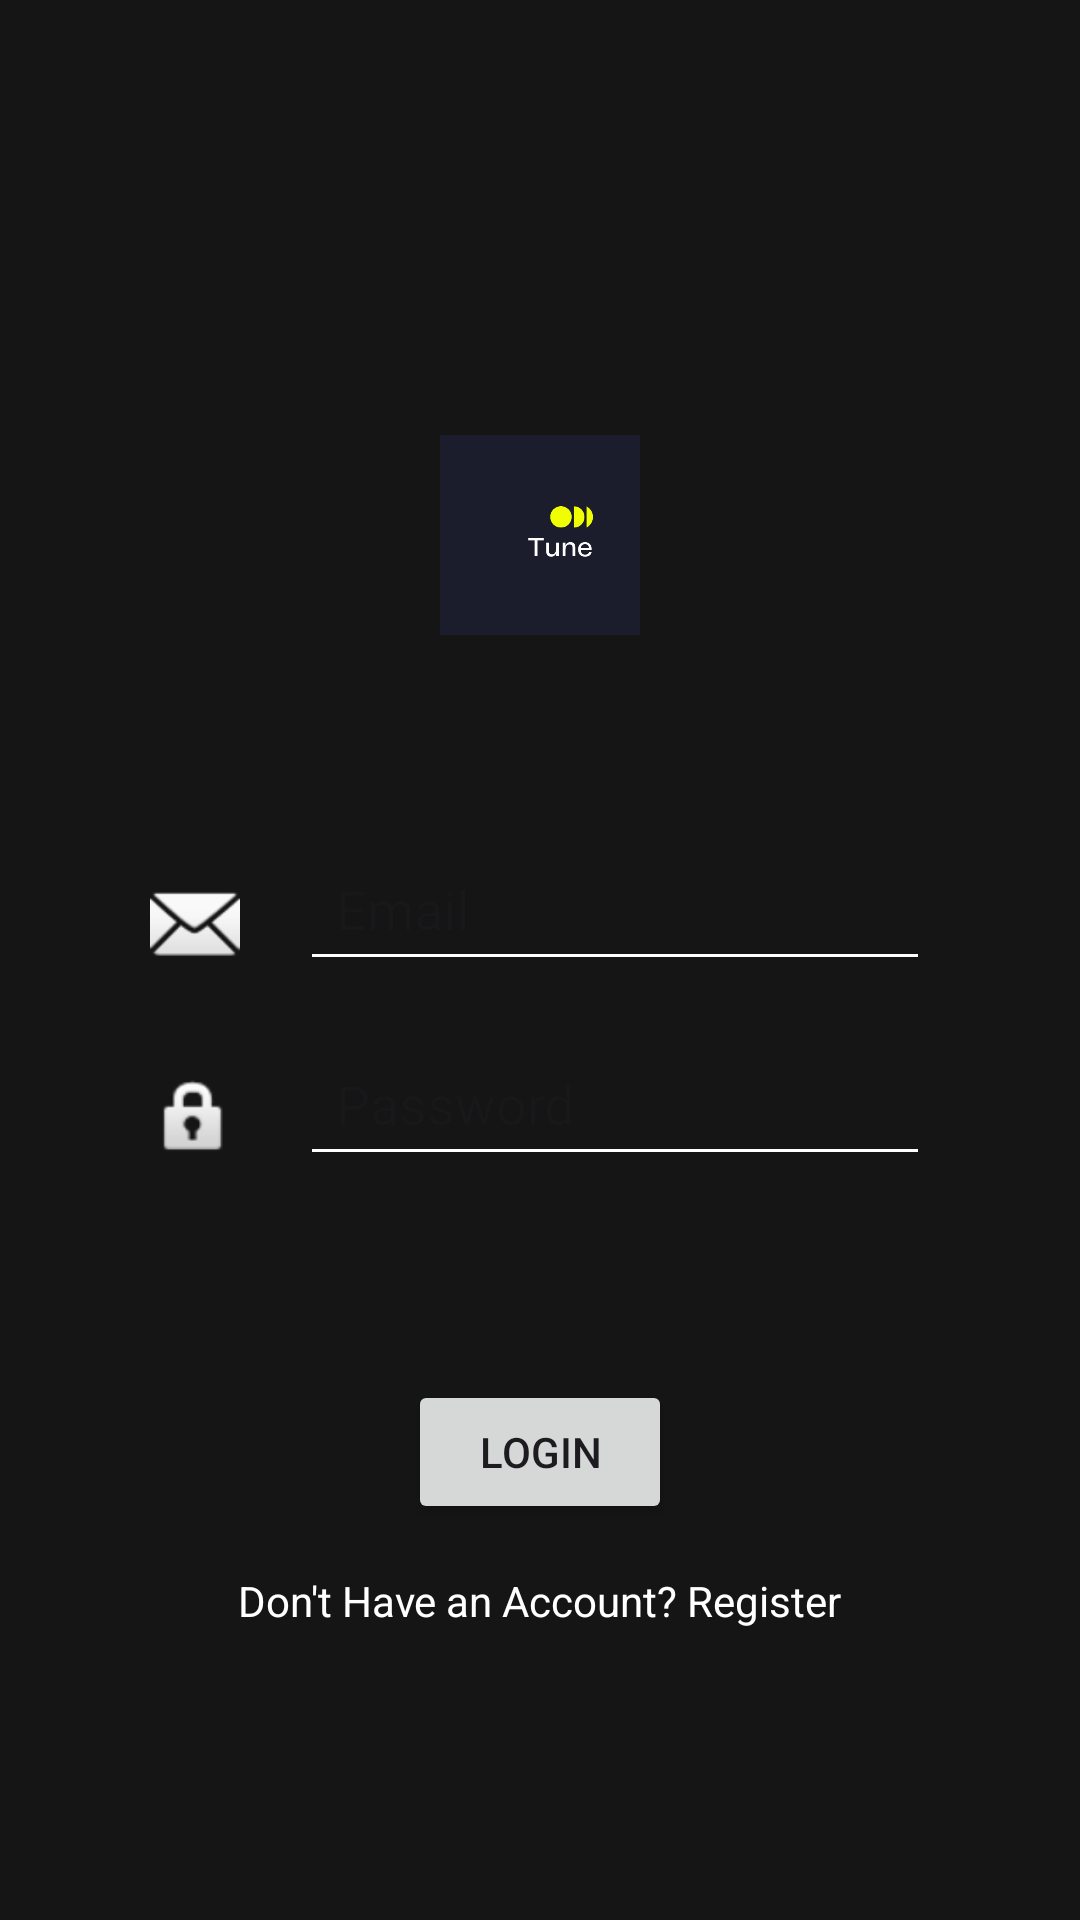

Icons on this 1080x1920 Android screen, each with its box as (x1, y1, x2, y2):
lock idle: (163, 1081, 222, 1150)
